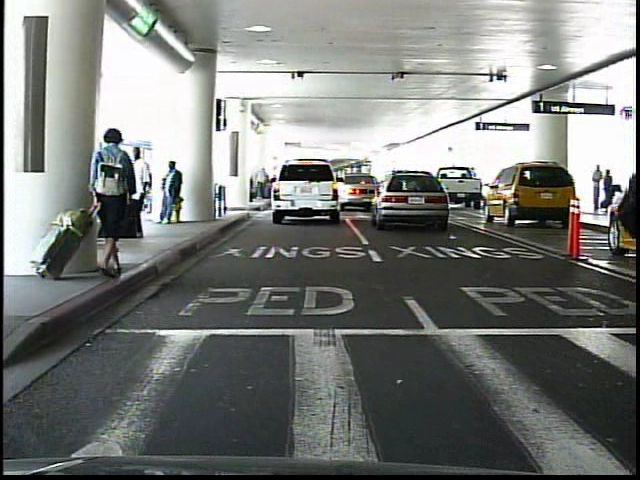person: (91, 125, 141, 281), (123, 144, 151, 239), (160, 160, 186, 228), (587, 165, 602, 213), (601, 166, 615, 210)
